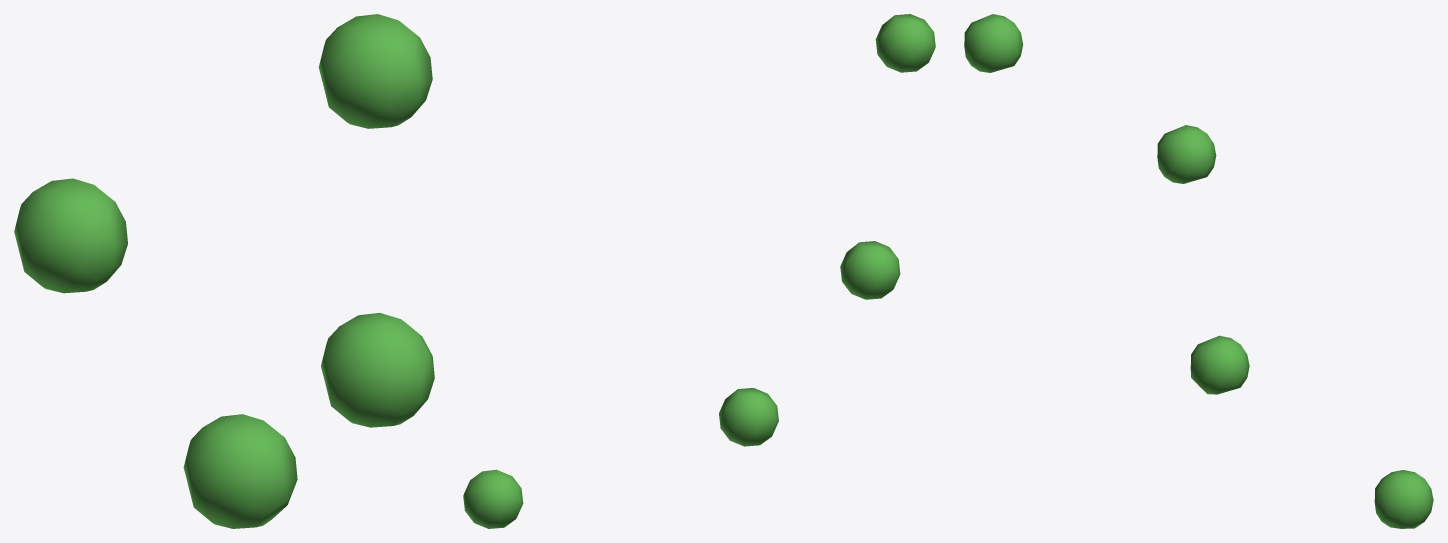
Rendered from linfatico-superior-gluteal-nodes-l.glb.
The picture shows the model from 3 angles, left to right: view 1: azimuth 30°, elevation 25°; view 2: azimuth 150°, elevation 25°; view 3: azimuth 270°, elevation 25°; orthographic projection. The views are drawn at different scales.
Parts seen in each view (by area): view 1: Superior gluteal nodes.l; view 2: Superior gluteal nodes.l; view 3: Superior gluteal nodes.l.
Part boxes in pixels (bbox=[...]): Superior gluteal nodes.l: bbox=[14, 14, 434, 528]; Superior gluteal nodes.l: bbox=[463, 14, 935, 528]; Superior gluteal nodes.l: bbox=[964, 14, 1433, 528].
Size of the model in its own units: 0.0157 by 0.0192 by 0.02.
